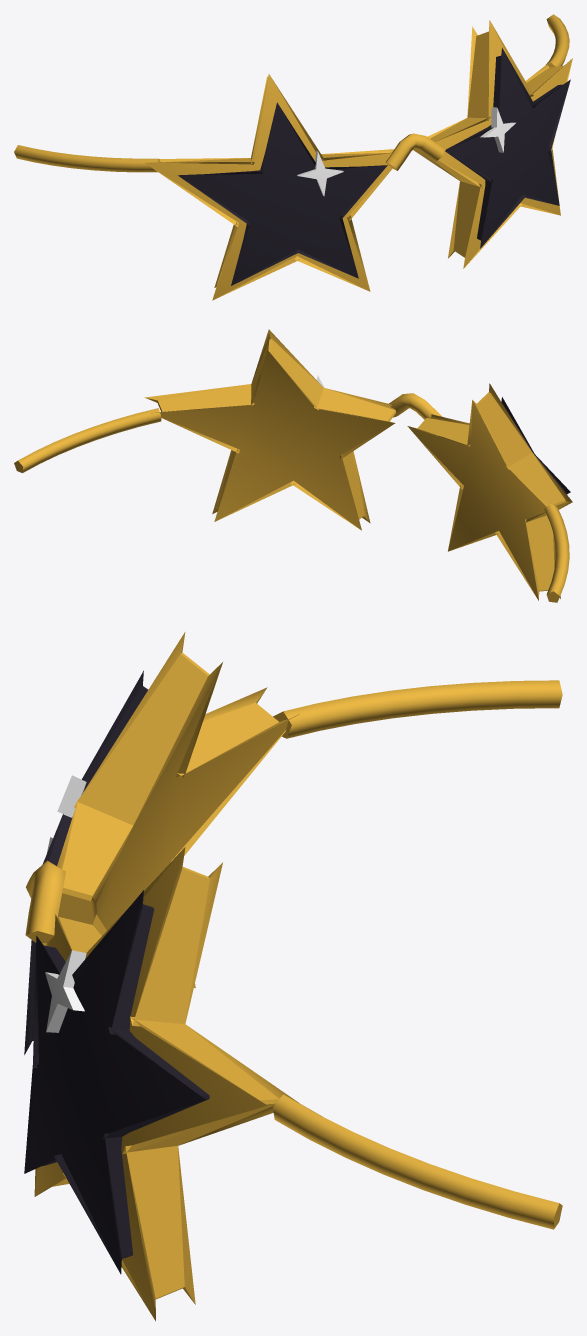
The model's file is face_star_shades.glb.
3 views of the same model, one above another, from view 1: azimuth 30°, elevation 25°; view 2: azimuth 150°, elevation 25°; view 3: azimuth 270°, elevation 25° (orthographic). The views are drawn at different scales.
Parts seen in each view (by area): view 1: Lens, Frame, Arms, Glint; view 2: Frame, Arms, Lens; view 3: Frame, Lens, Arms, Glint.
Part boxes in pixels (<box>): Lens: <box>178,47,570,285</box>; Frame: <box>145,20,572,300</box>; Arms: <box>14,14,569,172</box>; Glint: <box>297,107,515,196</box>; Frame: <box>144,329,572,600</box>; Arms: <box>14,393,569,602</box>; Lens: <box>190,397,570,494</box>; Frame: <box>34,632,299,1321</box>; Lens: <box>24,670,209,1274</box>; Arms: <box>25,680,562,1229</box>; Glint: <box>45,775,86,1032</box>.
Size of the model in its own units: 0.7756 by 0.2803 by 0.3311.
